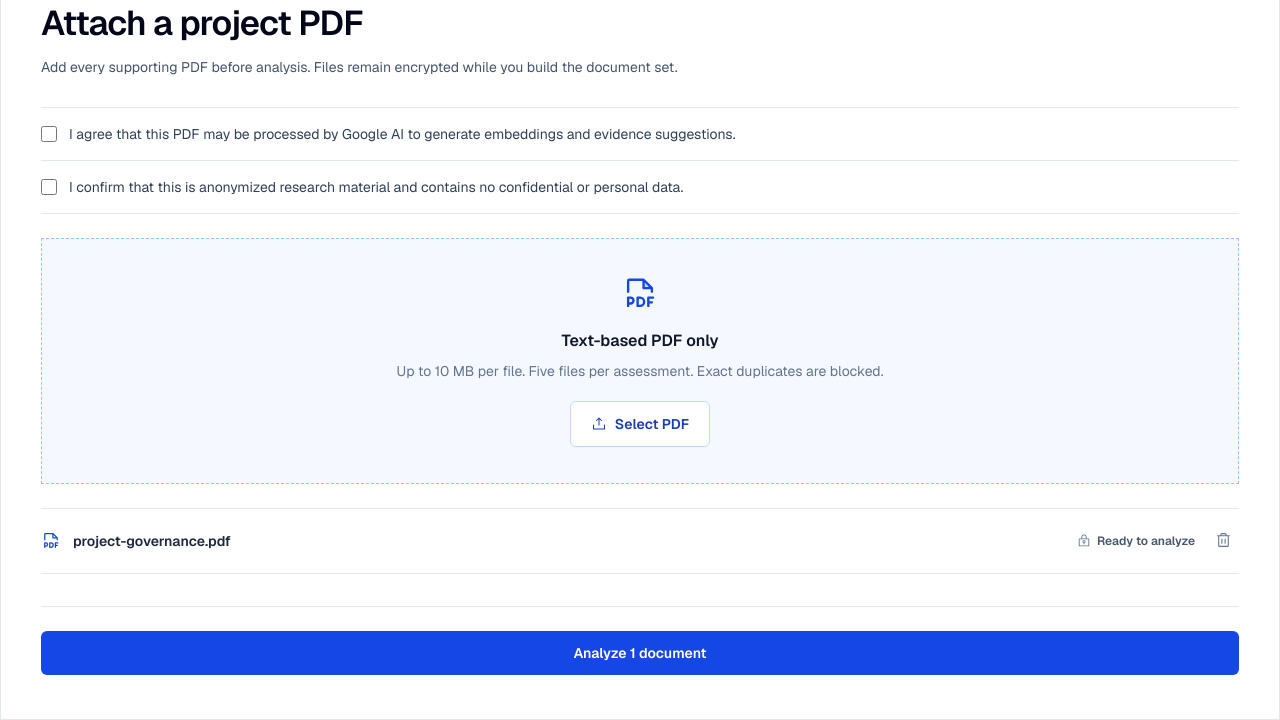
Scenario: DocumentUploadScreen › starts one explicit batch after documents are collected
(page scrolled)
Click the button "Analyze 1 document" at coordinates (640, 653), box left=41, top=631, right=1239, bottom=675
(page scrolled)
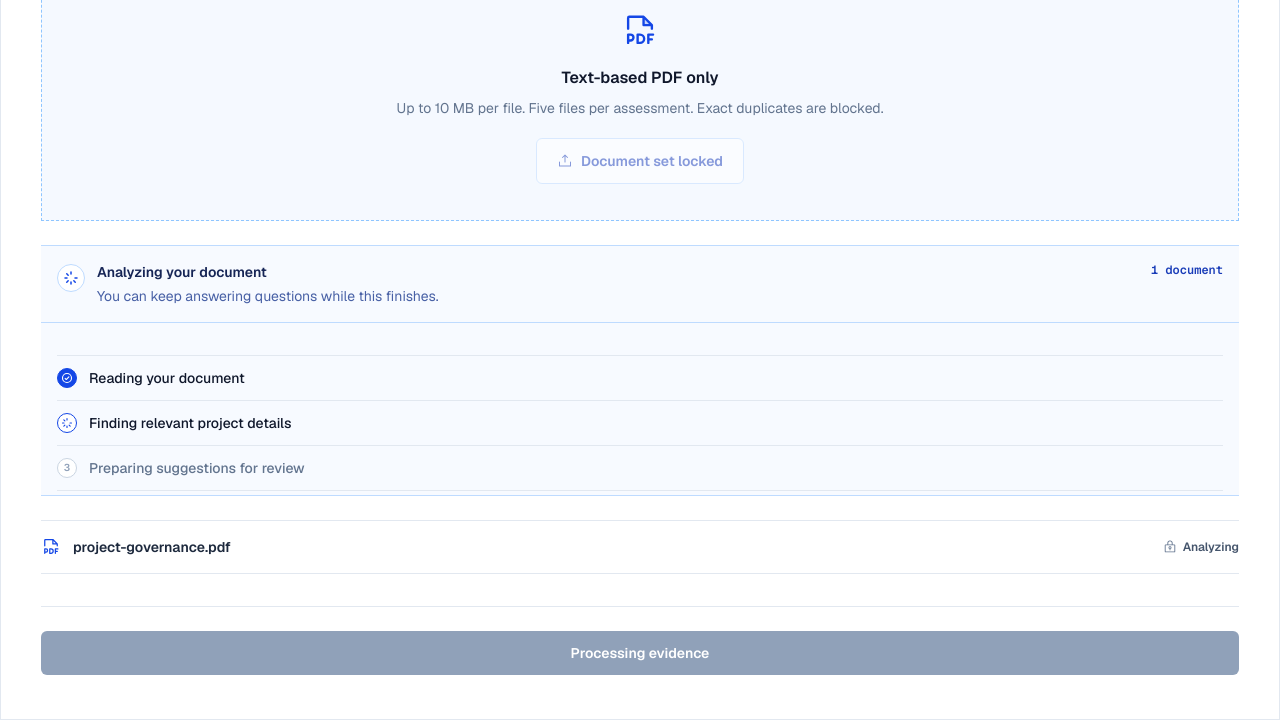
expect the text "Finding relevant project details" is shown: met, box left=89, top=413, right=292, bottom=433
expect the text "Reading your document" is shown: met, box left=89, top=368, right=245, bottom=388
expect the text "Preparing suggestions for review" is shown: met, box left=89, top=458, right=305, bottom=478
